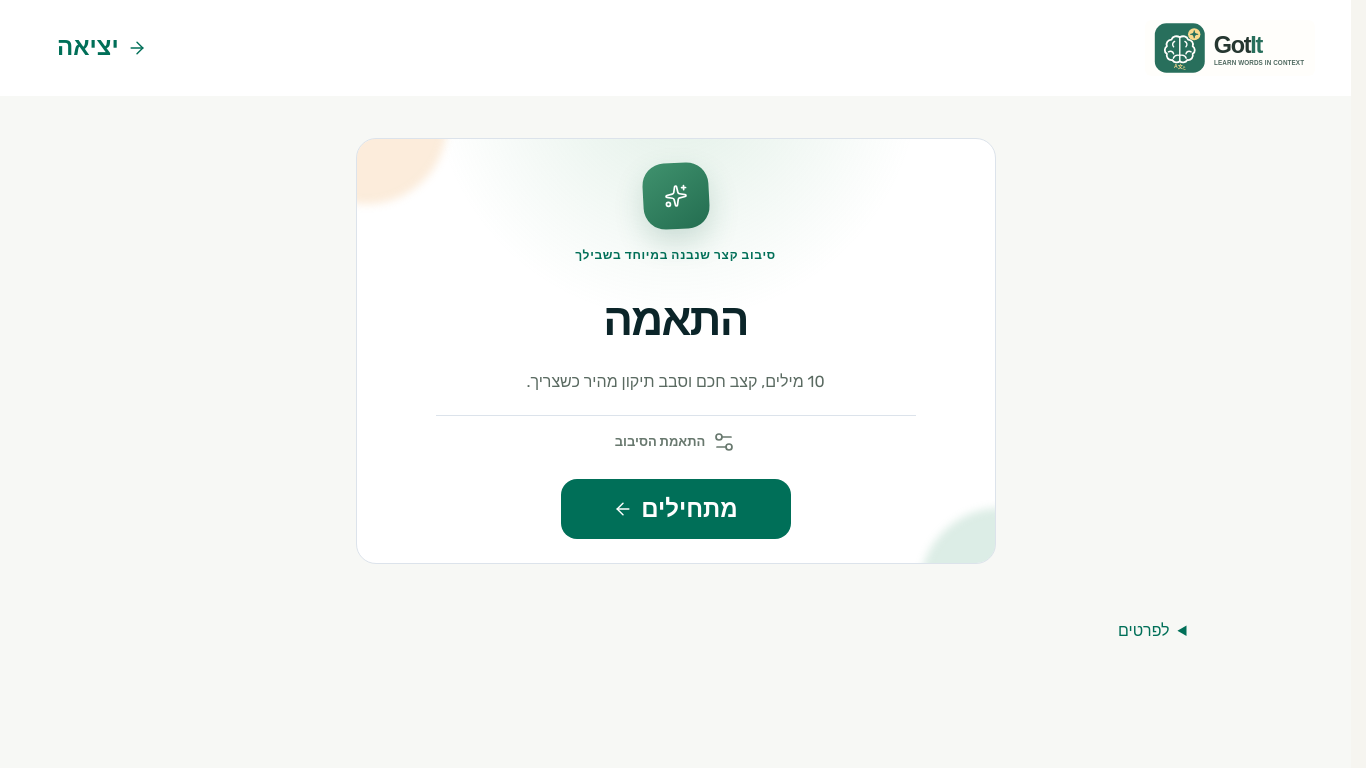
it: live server-backed flows › plays matching as one interactive board and saves every resolved pair
Step 1. Click the button "מתחילים" → [676, 509], box [560,479,790,539]
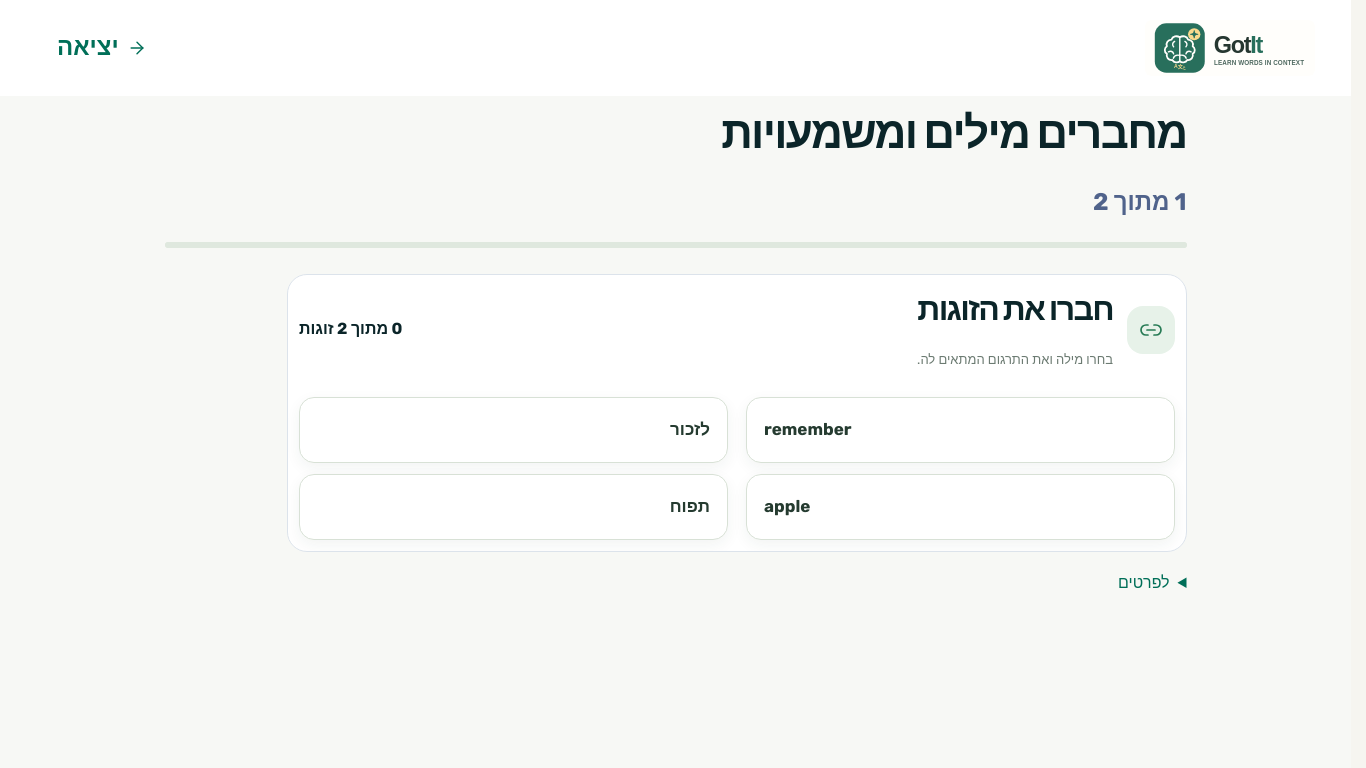
Check: the heading "חברו את הזוגות" is shown, box [917,290,1112,328]
Step 2. Click the button "remember" → [807, 430], box [746,398,1174,464]
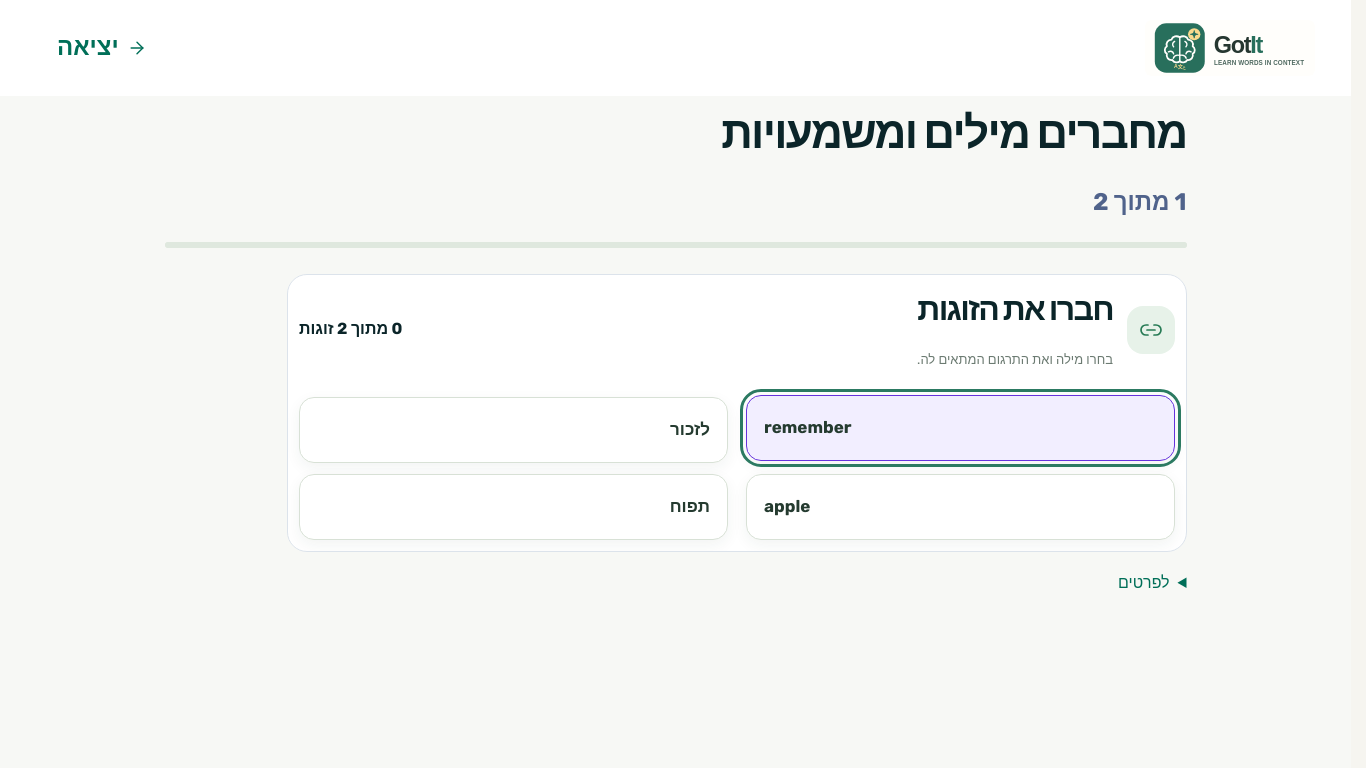
Step 3. Click the button "לזכור" → [690, 430], box [298,398,728,464]
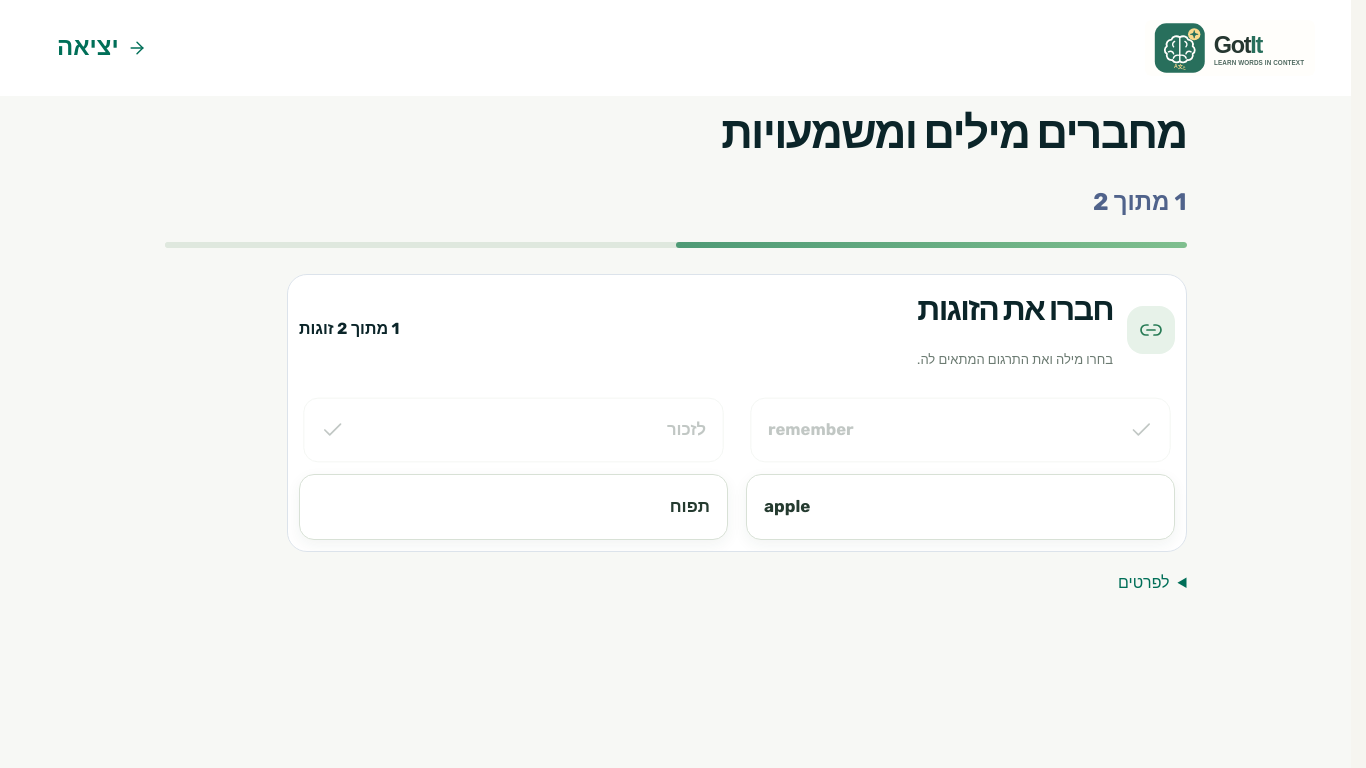
Check: the button "apple" is enabled
Check: the button "remember" is disabled, box [750,398,1170,463]
Step 4. Click the button "apple" → [787, 507], box [746,474,1174,540]
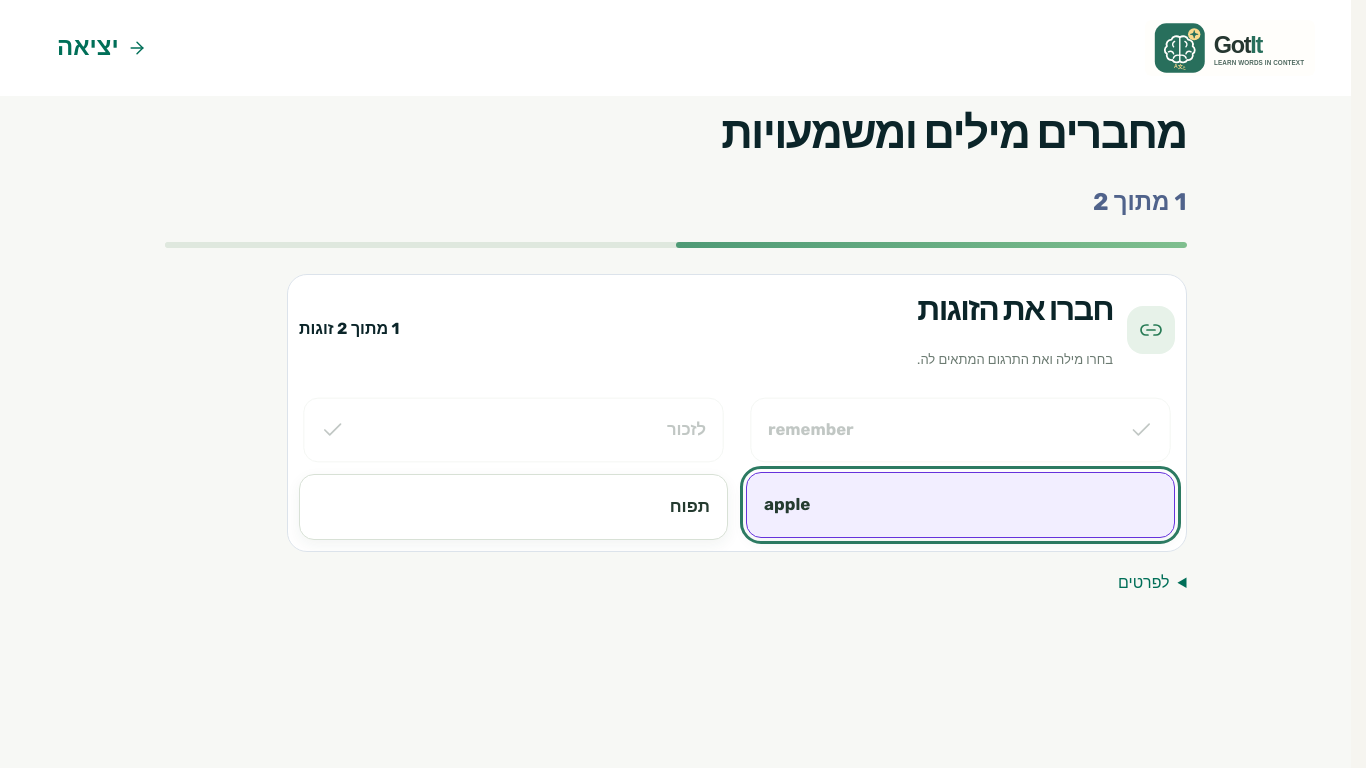
Step 5. Click the button "תפוח" → [689, 507], box [298,474,728,540]
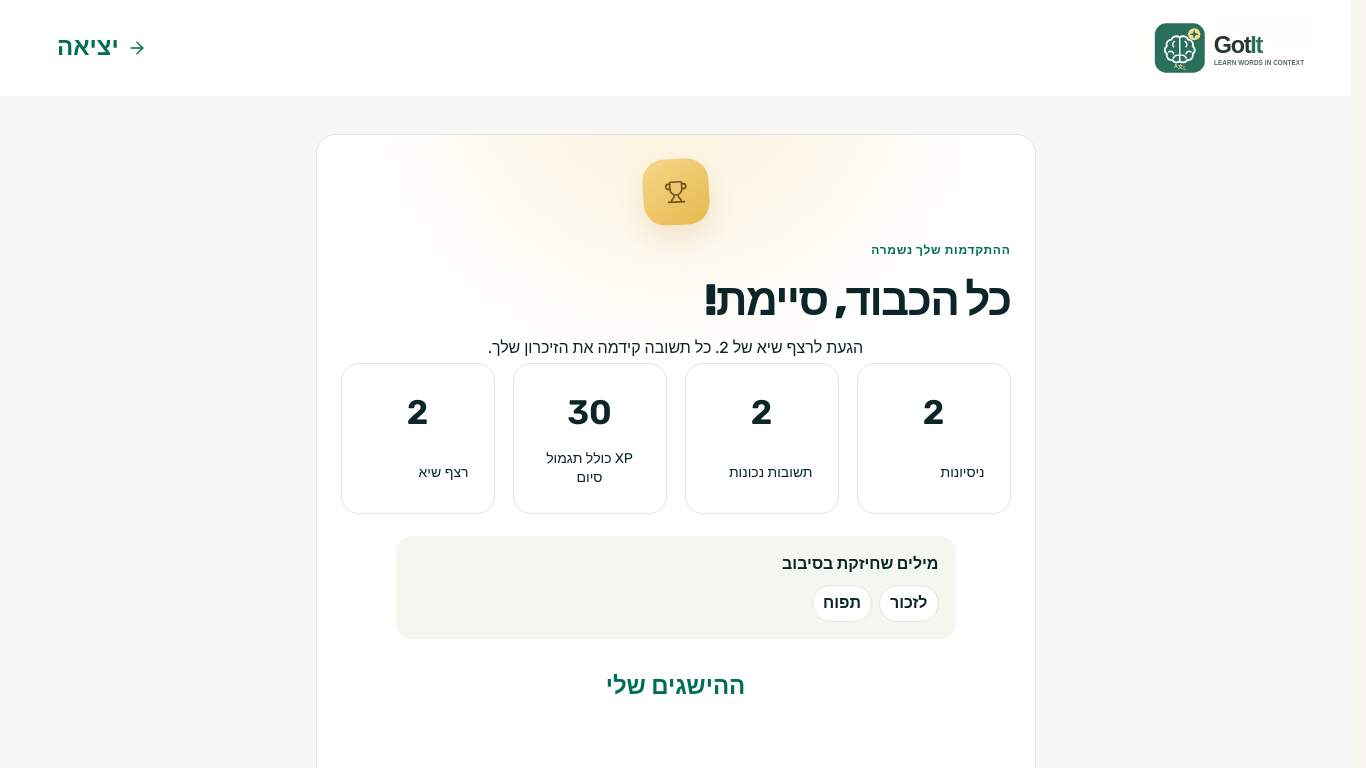
Check: the heading "כל הכבוד, סיימת!" is shown, box [704,274,1010,326]
